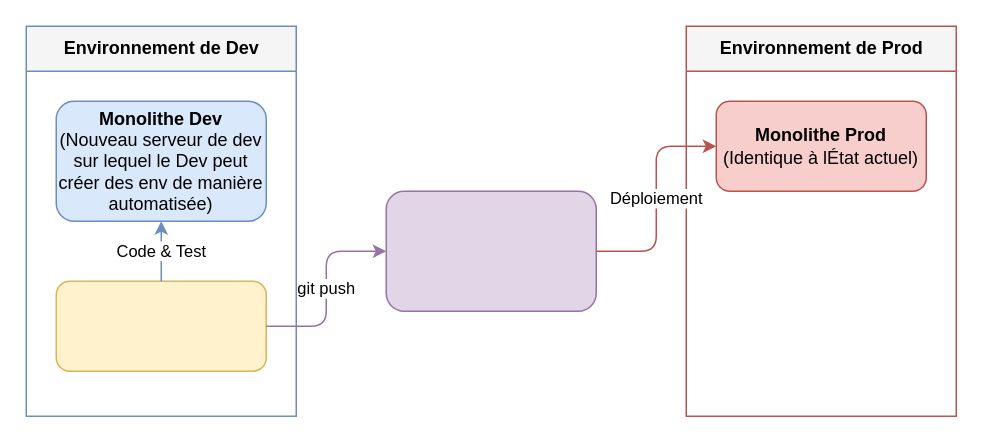
Image size: 983x443. Some labels were removed from this diagram. Each missing label, with the box of its shape:
Développeur Poste de travail: (55, 280, 266, 371)
GitHub Actions Pipeline CI/CD: (385, 190, 596, 311)
